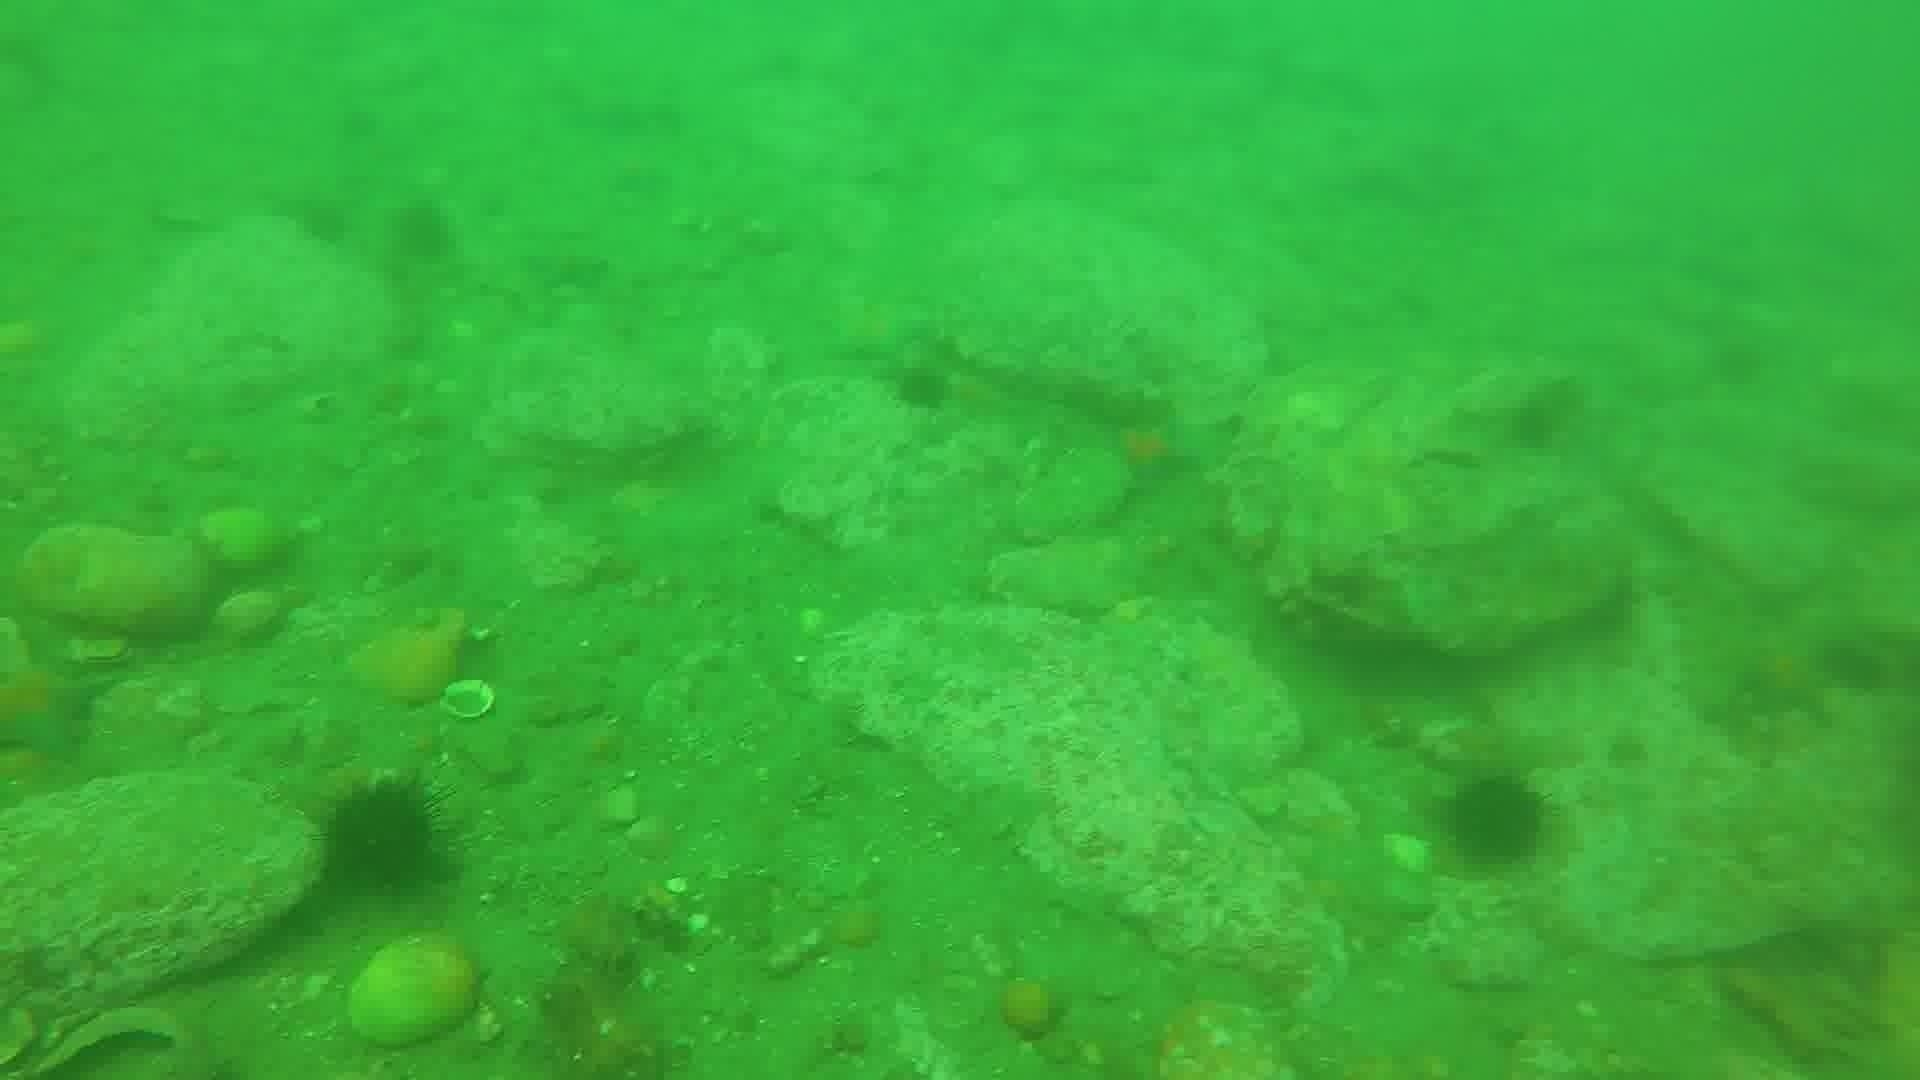echinus: (320, 777, 454, 899), (1437, 769, 1553, 874), (1502, 376, 1589, 458), (1815, 632, 1895, 700), (385, 196, 460, 268), (887, 360, 956, 418), (290, 194, 355, 251), (1601, 727, 1654, 775)
holothurian: (525, 910, 688, 1077)
starfish: (1, 647, 105, 767), (1729, 634, 1840, 727), (822, 287, 932, 364), (1104, 411, 1203, 495)
